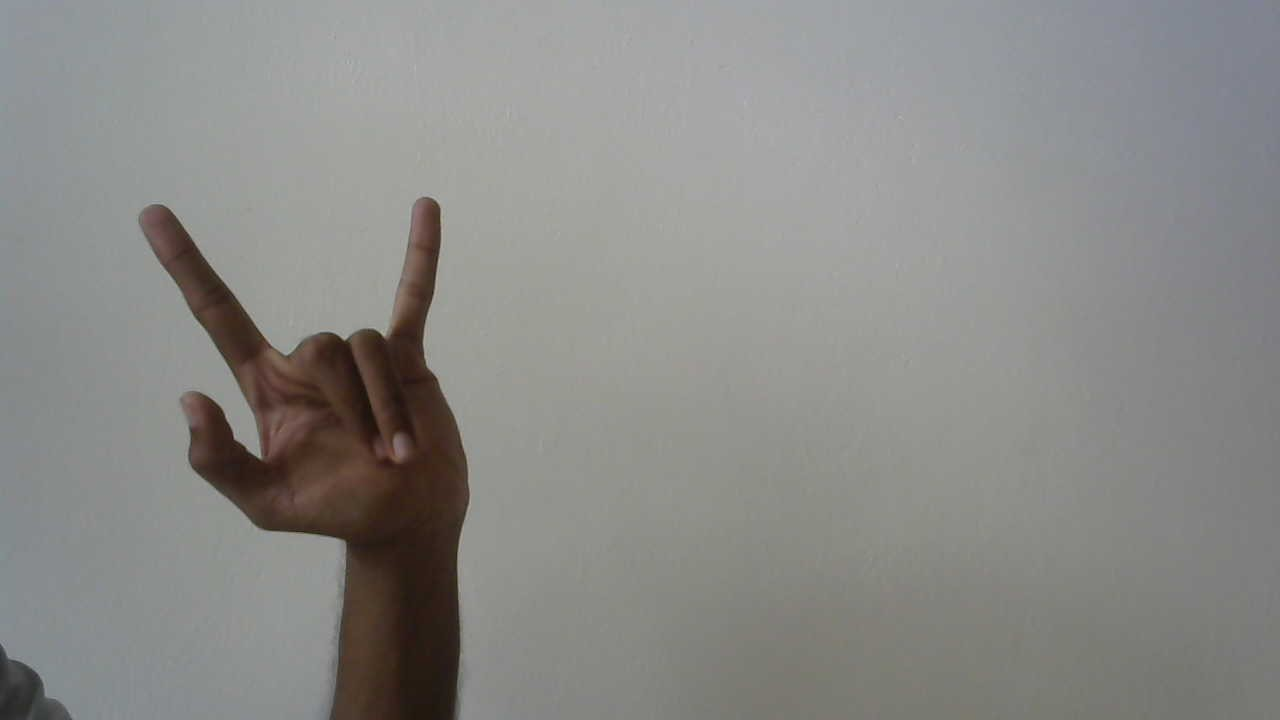iloveyou: (130, 188, 482, 542)
